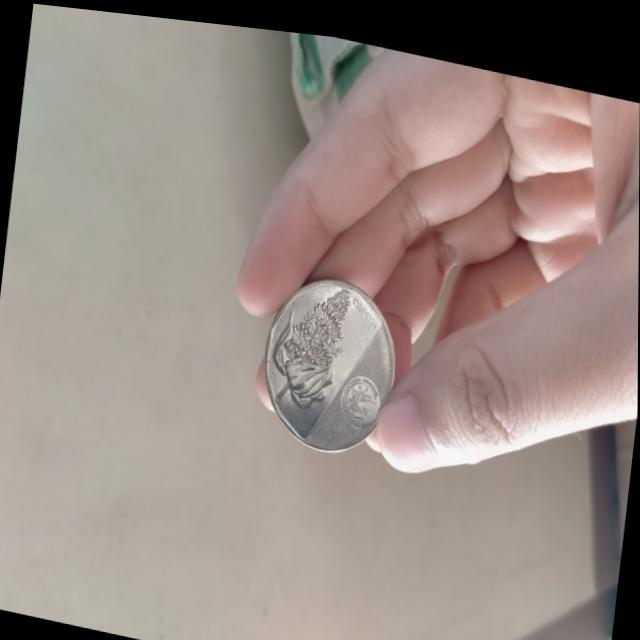10_New_Back: (263, 255, 353, 437)
